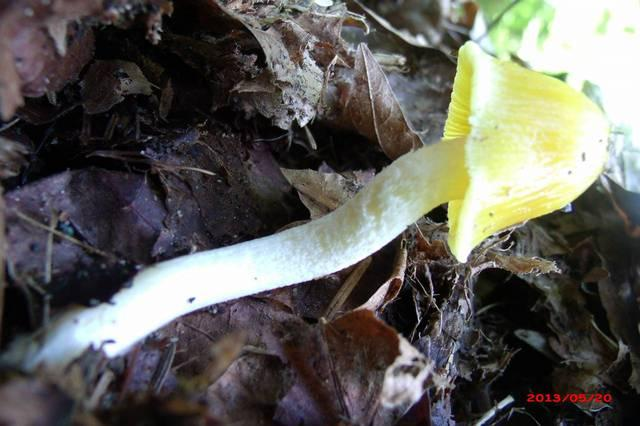Edible Mushroom: (21, 39, 612, 401)
